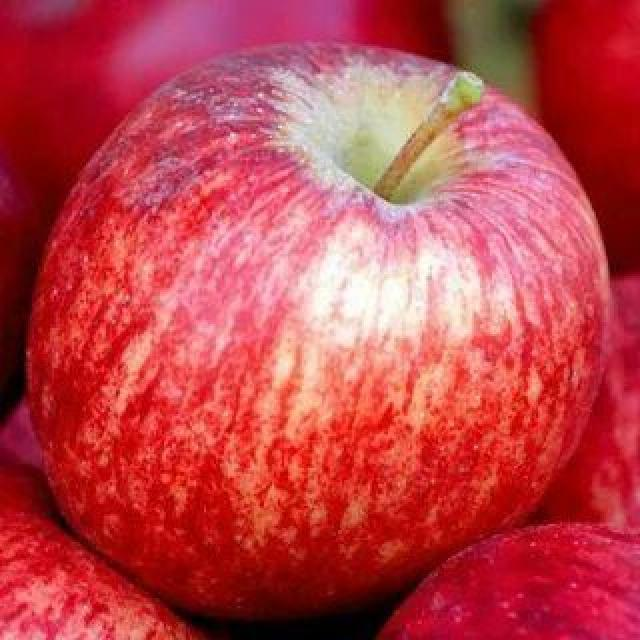Fresh Apple: (40, 44, 604, 640)
